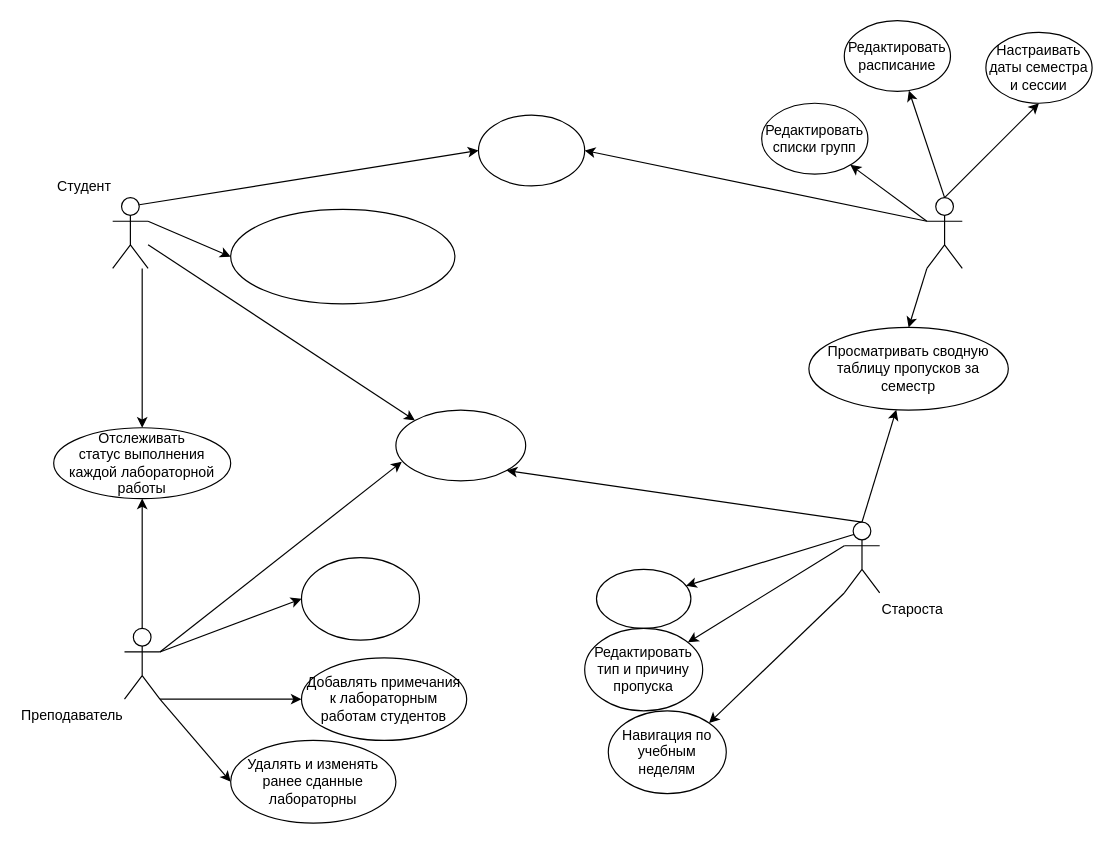
This 1113x844 diagram has some shape labels left out. The centre of each missing label's shape, as x and y in pixels:
Деканат: (944,232)
Просматривать выставленные оценки и примечания преподавателей: (342,256)
Просматривать список студентов на каждой паре: (359,598)
Просмотр личного расписания: (460,445)
Просмотр статистики пропусков: (531,150)
Указывать пропуски и причины: (643,598)
